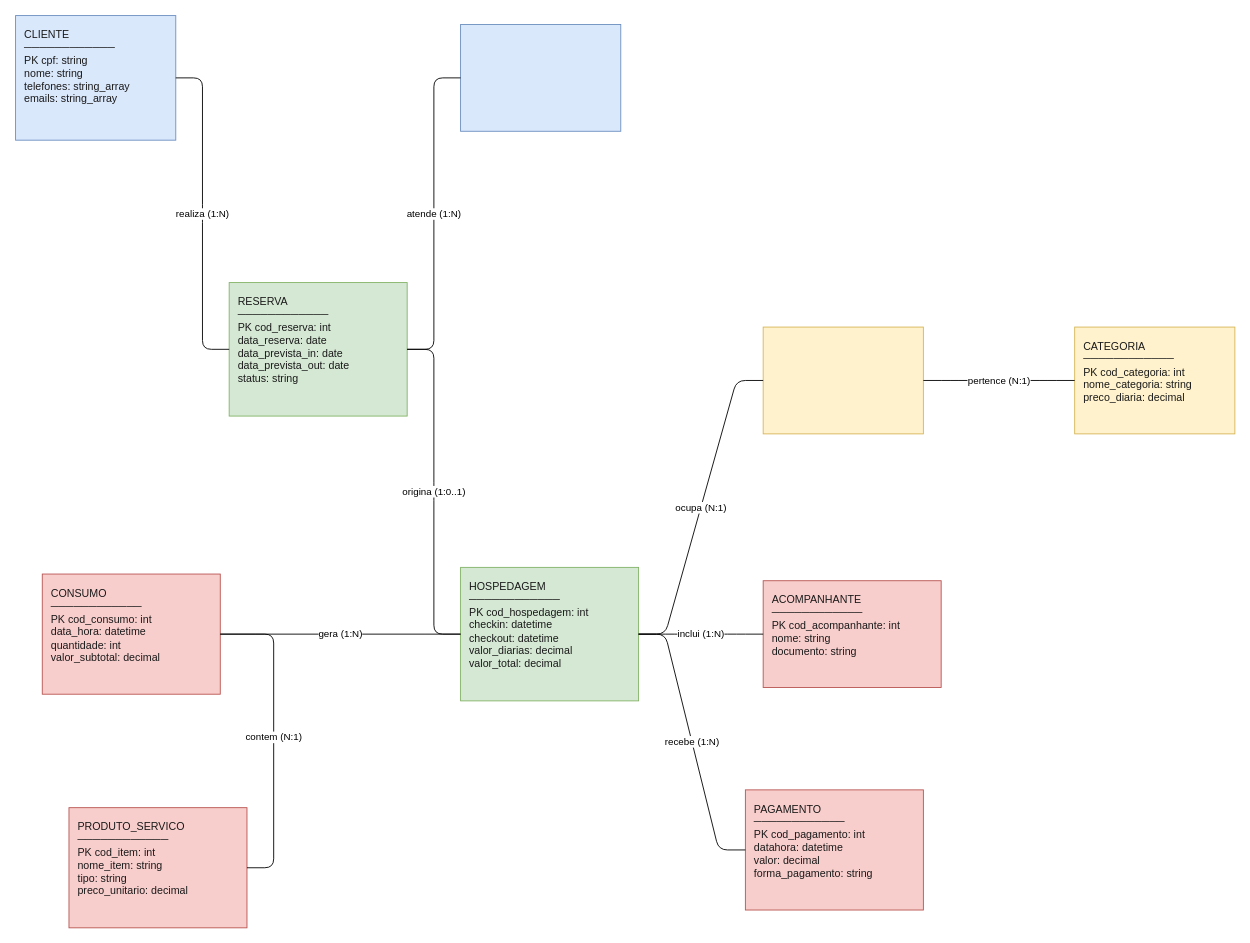
Some shapes in this 1250 by 943 pixel diagram are drawn without their labels. The shapes that lost their labels are listed below. From the top down, each one's centre as x and y in pixels, then its label:
At pixel 540 77: "FUNCIONARIO ──────────── PK cpf_funcionario: string nome: string cargo: string".
At pixel 842 380: "QUARTO ──────────── PK num_quarto: int andar: int status_limpeza: string".
